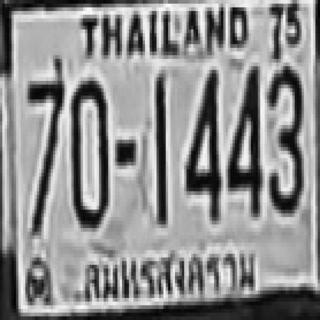N00: (74, 77, 110, 224)
N01: (154, 72, 168, 223)
N03: (267, 62, 302, 210)
N04: (184, 66, 219, 217), (226, 63, 260, 213)
N07: (25, 74, 65, 232)
P59: (80, 240, 259, 306)
